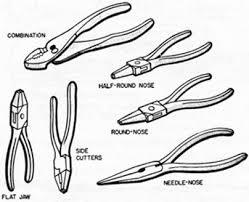pliers: (22, 0, 154, 70), (95, 125, 248, 185), (0, 88, 34, 193), (48, 79, 77, 194)
